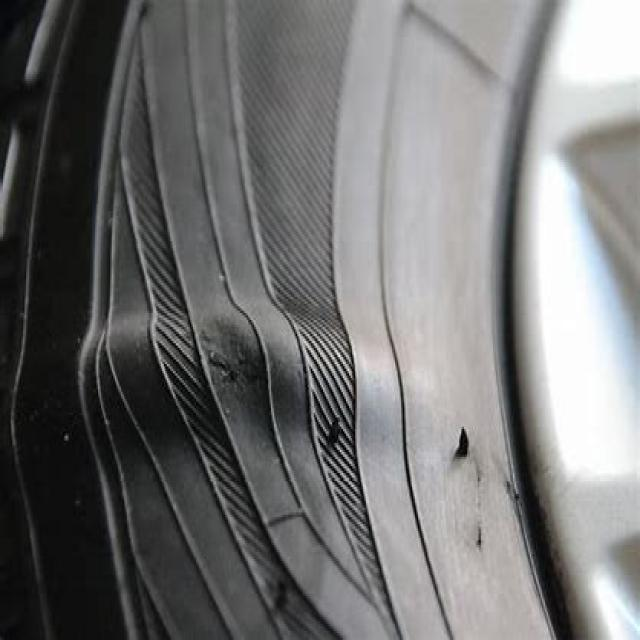Bulge: (7, 293, 410, 468)
